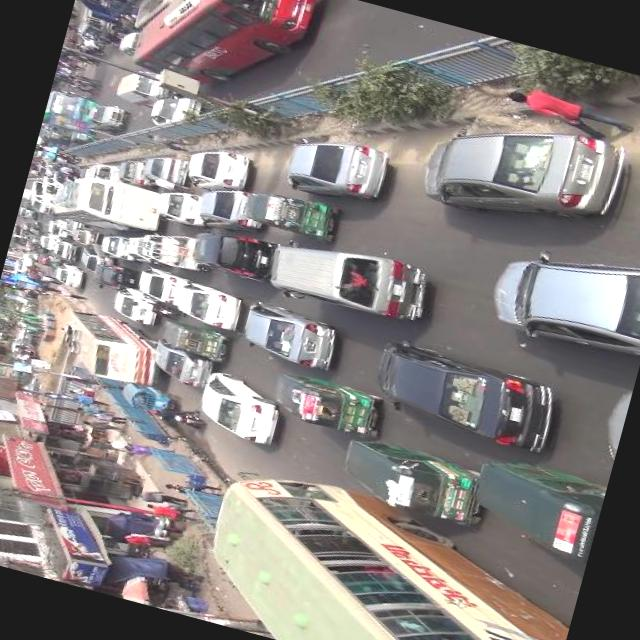bus: (175, 451, 587, 640), (125, 0, 318, 107), (52, 304, 170, 392), (46, 166, 170, 241), (125, 0, 227, 46), (42, 86, 103, 135), (65, 0, 126, 47)
car: (412, 92, 634, 248), (363, 336, 557, 452), (481, 231, 640, 365), (278, 127, 399, 210), (235, 298, 343, 374), (188, 368, 288, 448), (184, 222, 276, 286), (136, 336, 230, 394), (178, 138, 262, 198), (167, 276, 244, 334), (195, 180, 262, 234), (146, 86, 208, 135), (589, 383, 629, 456), (103, 280, 163, 324), (136, 147, 192, 193), (150, 183, 202, 230), (126, 263, 184, 305), (112, 153, 164, 191), (90, 259, 136, 293), (95, 228, 138, 260), (71, 240, 111, 274), (46, 260, 90, 290), (79, 158, 123, 185), (65, 222, 103, 249), (44, 239, 80, 261), (7, 250, 34, 277), (42, 217, 68, 237), (34, 230, 58, 251), (30, 157, 53, 177), (10, 224, 30, 246)
motorcycle: (456, 448, 606, 559), (326, 430, 488, 530), (261, 368, 388, 442), (238, 182, 334, 242), (155, 317, 233, 362), (169, 408, 202, 432), (37, 126, 70, 144), (65, 130, 97, 148)
truck: (258, 226, 442, 332), (106, 61, 182, 112), (134, 225, 208, 274), (79, 94, 136, 140), (23, 177, 56, 213), (115, 26, 146, 60)
